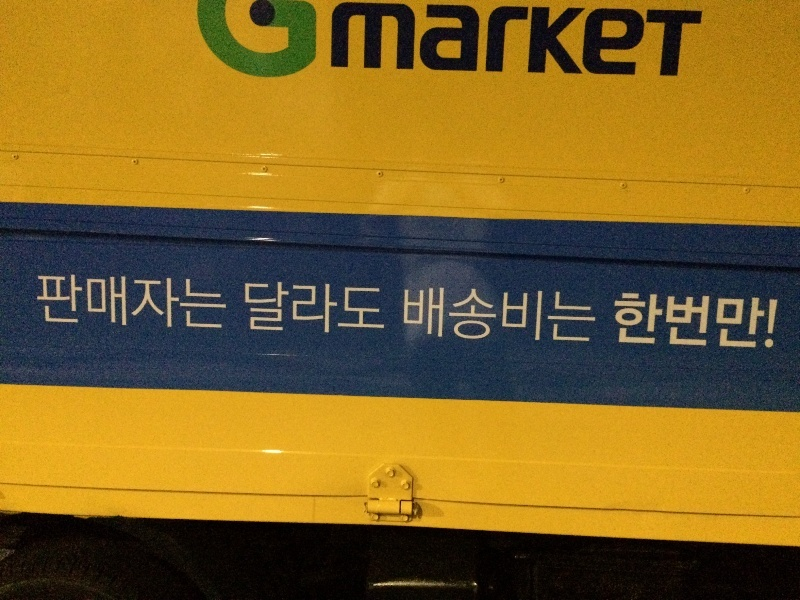text: (209, 1, 224, 87), (225, 1, 240, 87), (241, 1, 256, 87), (257, 1, 272, 87), (273, 1, 288, 87), (289, 1, 304, 87), (337, 3, 352, 78), (353, 3, 368, 78), (369, 3, 384, 78), (385, 3, 400, 78), (401, 3, 416, 78), (417, 3, 432, 78), (433, 3, 448, 78), (449, 3, 464, 78), (465, 3, 480, 78), (481, 3, 496, 78), (497, 3, 512, 78), (513, 3, 528, 78), (529, 3, 544, 78), (545, 3, 560, 78), (561, 3, 576, 78), (577, 3, 592, 78), (593, 3, 608, 78), (609, 3, 624, 78), (625, 3, 640, 78), (641, 3, 656, 78), (657, 3, 672, 78), (673, 3, 688, 78), (196, 1, 208, 87), (305, 1, 317, 87), (689, 3, 702, 78), (49, 274, 64, 331), (65, 274, 80, 331), (81, 274, 96, 331), (97, 274, 112, 331), (113, 274, 128, 331), (129, 274, 144, 331), (145, 274, 160, 331), (161, 274, 176, 331), (177, 274, 192, 331), (193, 274, 208, 331), (209, 274, 224, 331), (417, 286, 432, 342), (433, 286, 448, 342), (449, 286, 464, 342), (465, 286, 480, 342), (481, 286, 496, 342), (497, 286, 512, 342), (513, 286, 528, 342), (529, 286, 544, 342), (545, 286, 560, 342), (561, 286, 576, 342), (577, 286, 592, 342), (625, 294, 640, 350), (641, 294, 656, 350), (657, 294, 672, 350), (673, 294, 688, 350), (689, 294, 704, 350), (705, 294, 720, 350), (721, 294, 736, 350), (737, 294, 752, 350), (753, 294, 768, 350), (257, 284, 272, 335), (273, 284, 288, 335), (289, 284, 304, 335), (305, 284, 320, 335), (321, 284, 336, 335), (337, 284, 352, 335), (353, 284, 368, 335), (369, 284, 384, 335), (405, 286, 416, 342), (38, 274, 48, 331), (245, 284, 256, 335), (769, 294, 779, 350), (616, 294, 624, 350), (332, 3, 336, 78), (593, 286, 597, 342), (225, 274, 228, 331), (385, 284, 387, 335)
